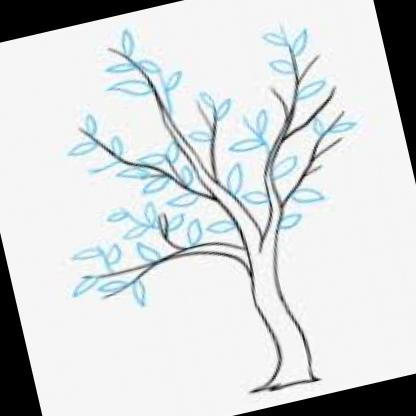branch_sharp: (27, 0, 374, 306)
root_only: (243, 363, 330, 405)
trunk_reflex: (240, 270, 320, 361)
